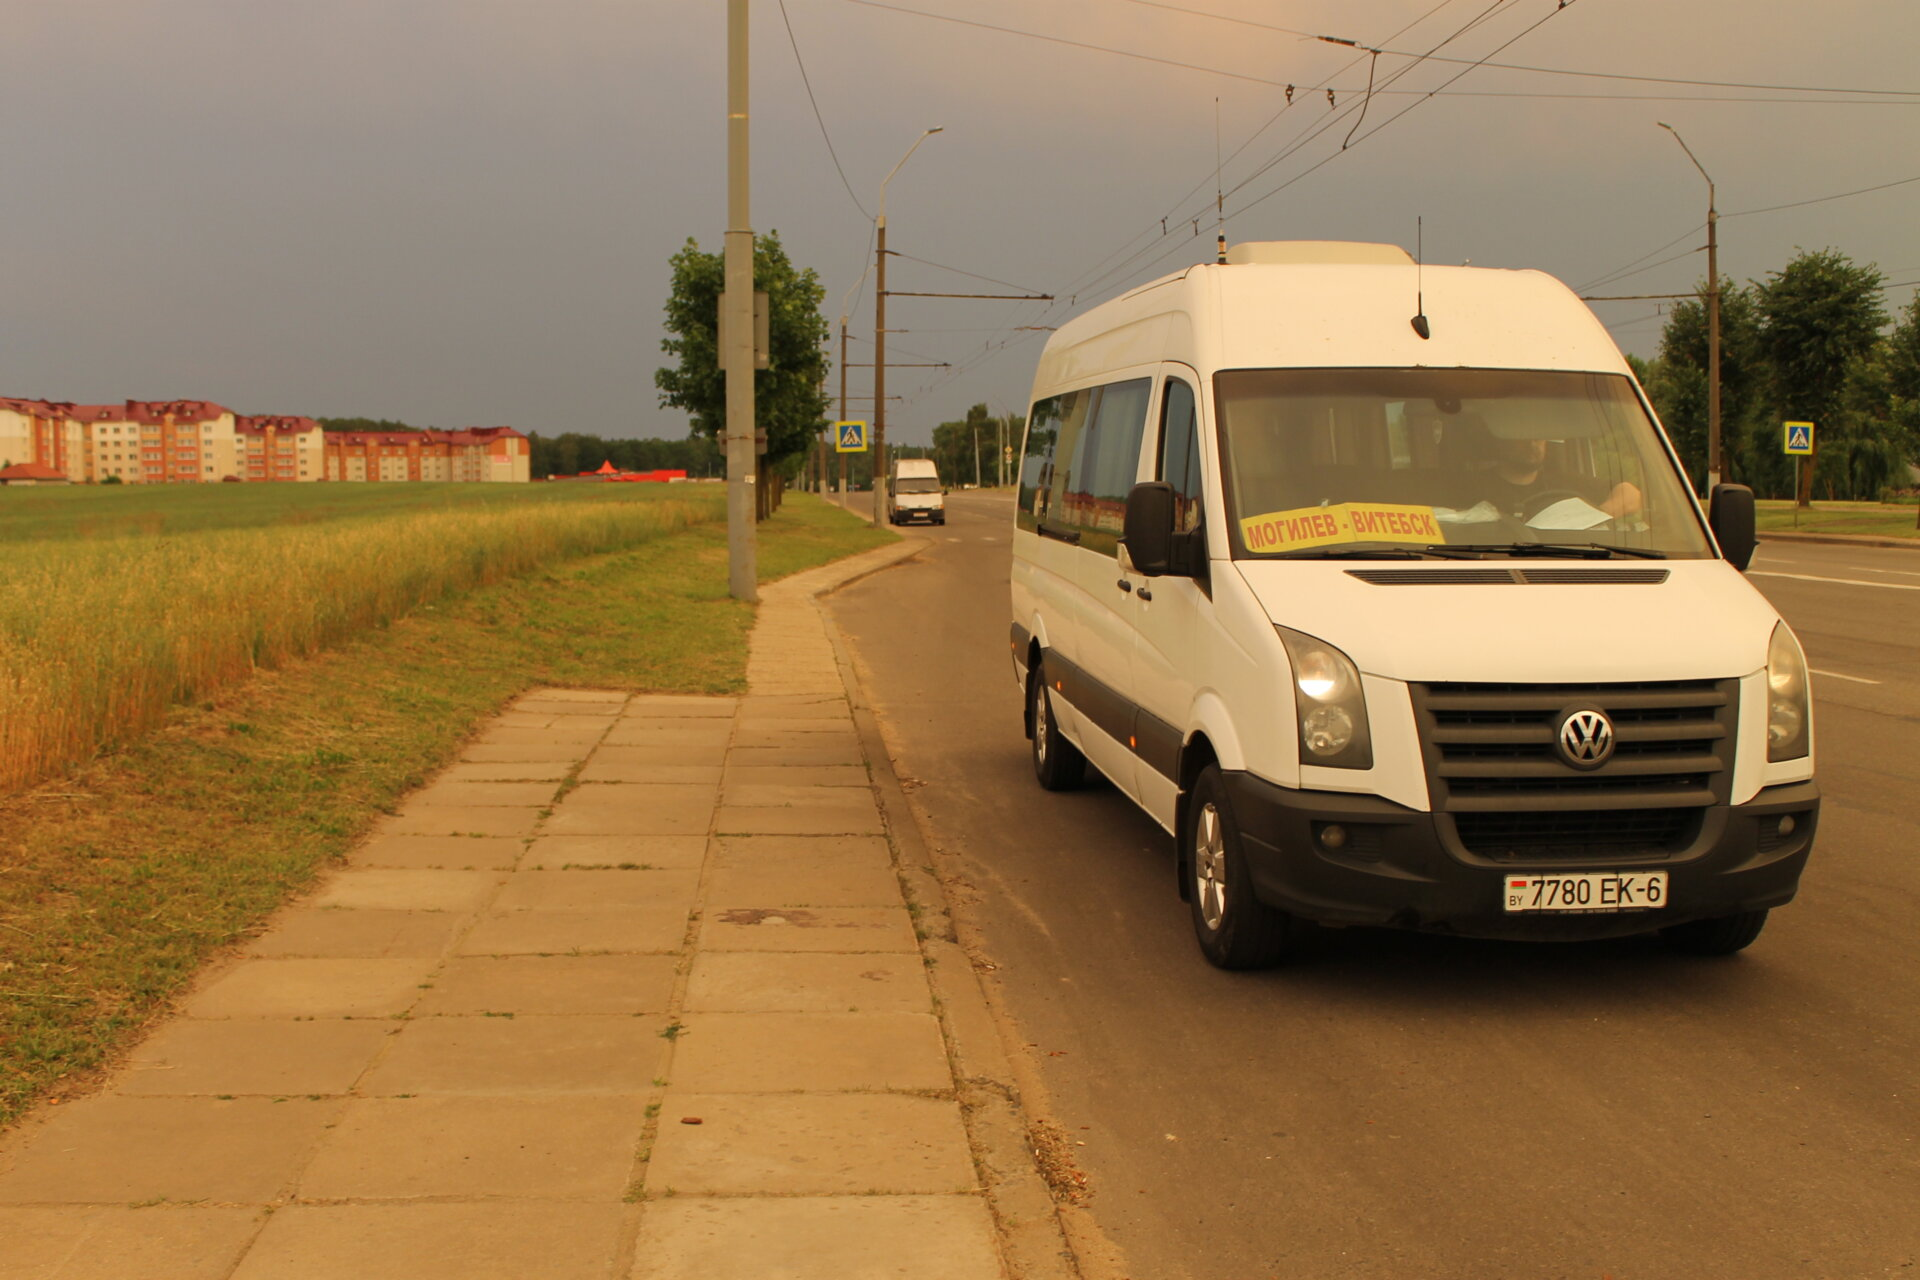van: (994, 241, 1829, 974), (886, 439, 946, 531)
